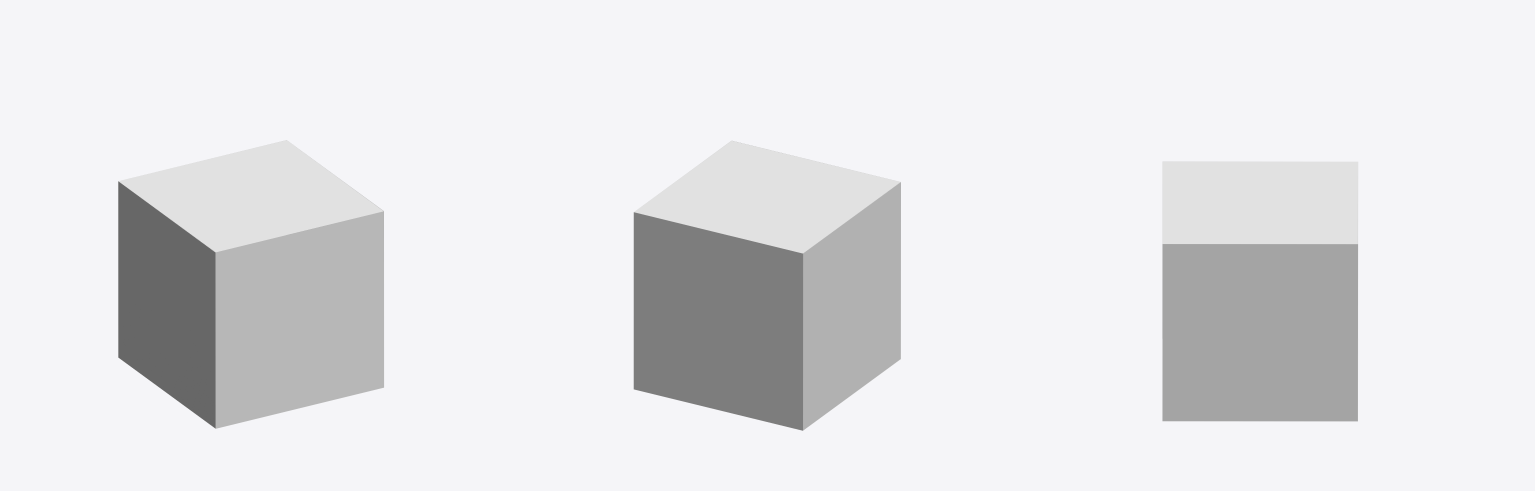
Rendered from black_cube.glb.
The picture shows the model from 3 angles, left to right: view 1: azimuth 30°, elevation 25°; view 2: azimuth 150°, elevation 25°; view 3: azimuth 270°, elevation 25°; orthographic projection.
Parts seen in each view (by area): view 1: Object_2; view 2: Object_2; view 3: Object_2.
Boxes of the visible parts, box(x1,y1,x2,y2) form: Object_2: box(118, 140, 383, 428); Object_2: box(633, 140, 900, 430); Object_2: box(1162, 161, 1357, 421).
Bounding box in the file's own units: 3.11 × 2.53 × 3.41.
Materials: 1 (1 with a texture image).
